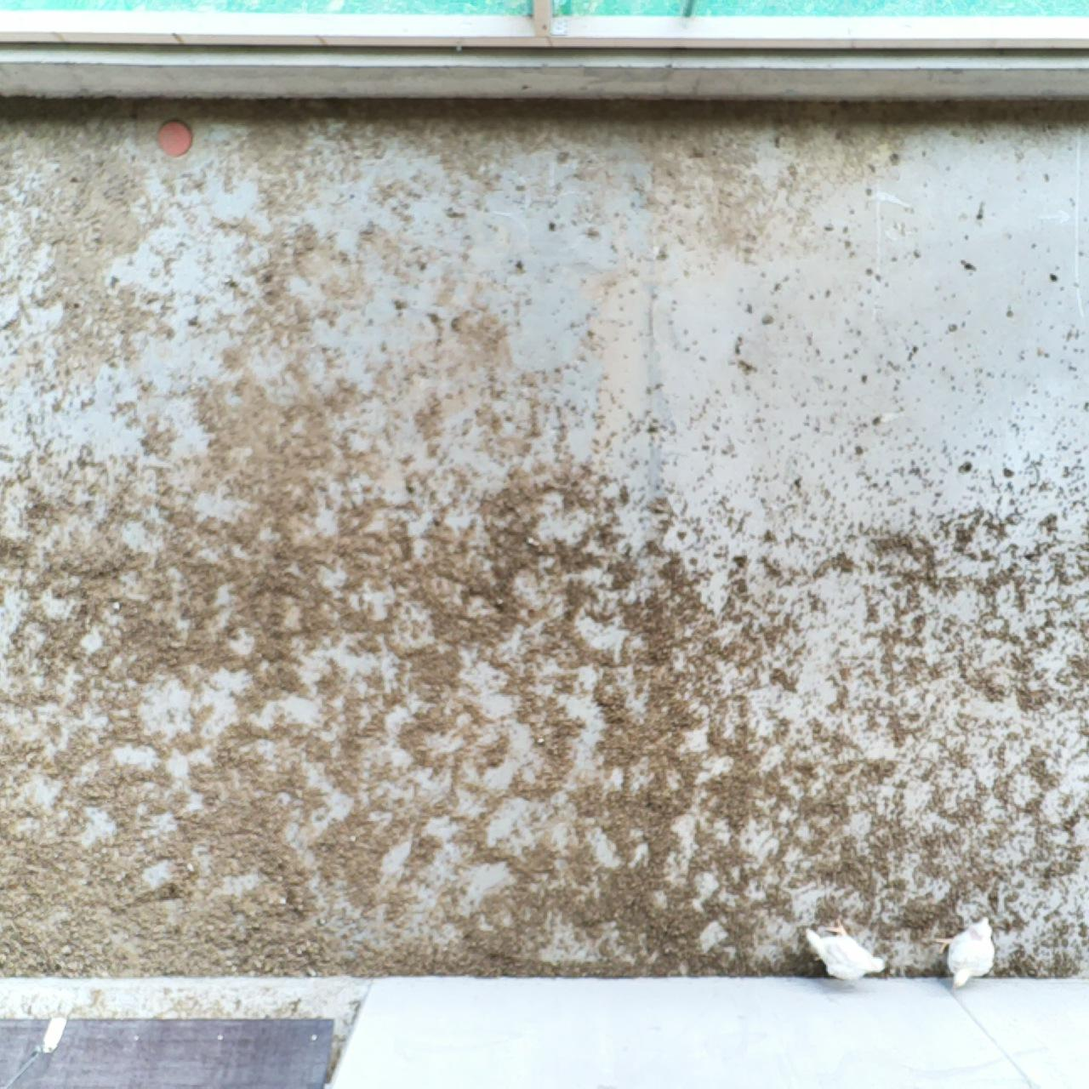chicken: (792, 913, 891, 991), (936, 912, 1003, 995)
